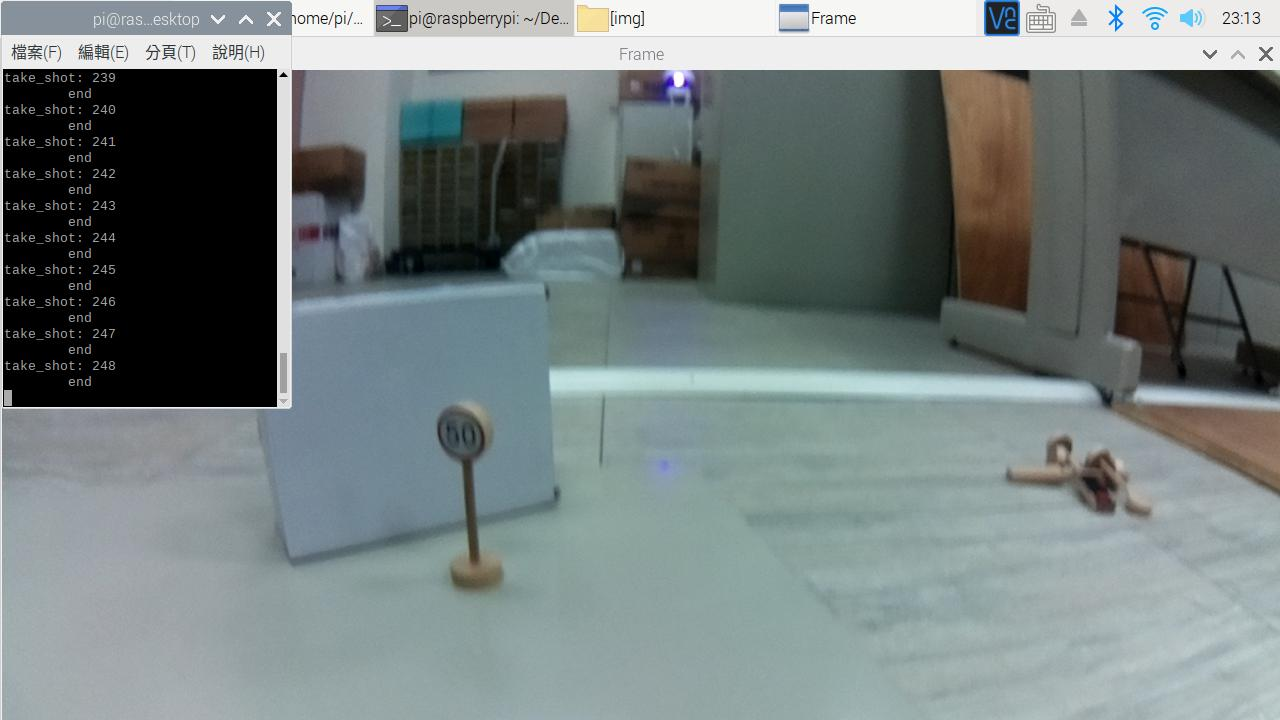Speed50: (430, 399, 501, 475)
